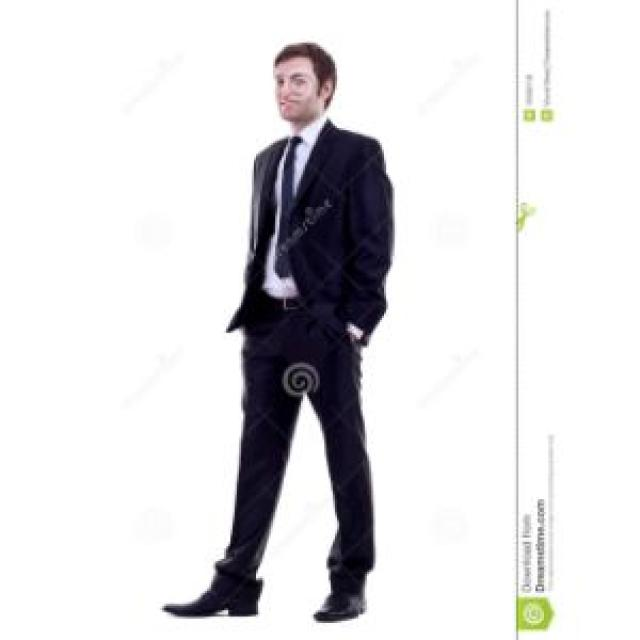adult: (205, 28, 399, 629)
